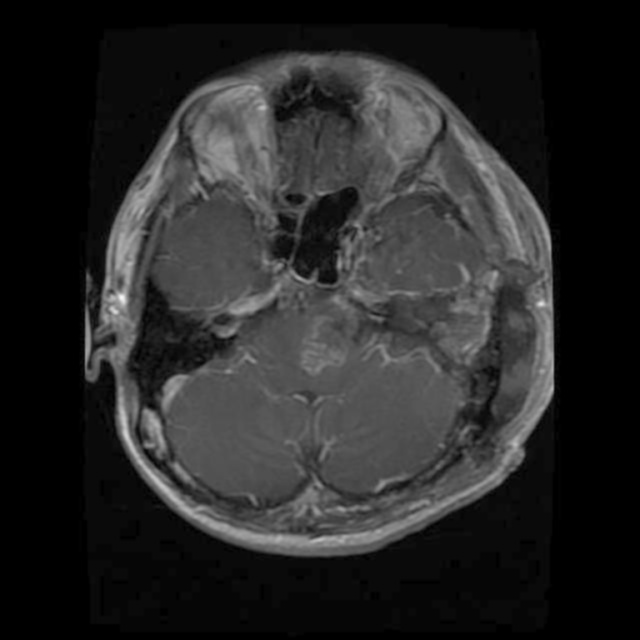pituitary tumor: (298, 315, 347, 380)
